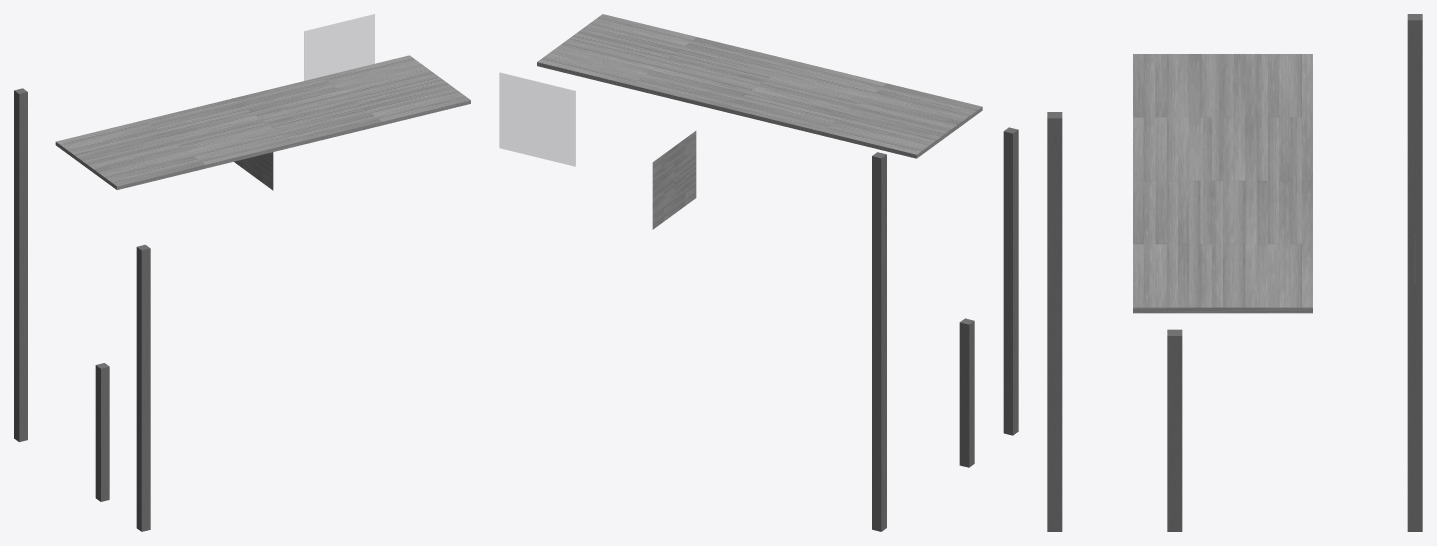
The picture shows the model from 3 angles, left to right: view 1: azimuth 30°, elevation 25°; view 2: azimuth 150°, elevation 25°; view 3: azimuth 270°, elevation 25°; orthographic projection. The views are drawn at different scales.
Parts seen in each view (by area): view 1: roof_floor, pillar_03, pillar_01, 3f_grass_5, pillar_02, 3f_wall_10; view 2: roof_floor, 3f_grass_5, pillar_03, pillar_01, 3f_wall_10, pillar_02; view 3: roof_floor, pillar_03, pillar_01, pillar_02.
Part boxes in pixels (<box>): roof_floor: <box>55,55,470,189</box>; pillar_03: <box>14,88,27,442</box>; pillar_01: <box>136,244,150,531</box>; 3f_grass_5: <box>304,14,374,80</box>; pillar_02: <box>95,363,109,501</box>; 3f_wall_10: <box>232,98,273,190</box>; roof_floor: <box>537,14,982,158</box>; 3f_grass_5: <box>499,73,575,166</box>; pillar_03: <box>872,152,886,531</box>; pillar_01: <box>1003,127,1018,435</box>; 3f_wall_10: <box>652,131,696,229</box>; pillar_02: <box>959,318,974,467</box>; roof_floor: <box>1133,54,1312,313</box>; pillar_03: <box>1407,14,1422,531</box>; pillar_01: <box>1047,112,1062,531</box>; pillar_02: <box>1167,329,1182,531</box>.
Size of the model in its own units: 10.12 by 9.4 by 6.25.
3 materials, 2 textured.
